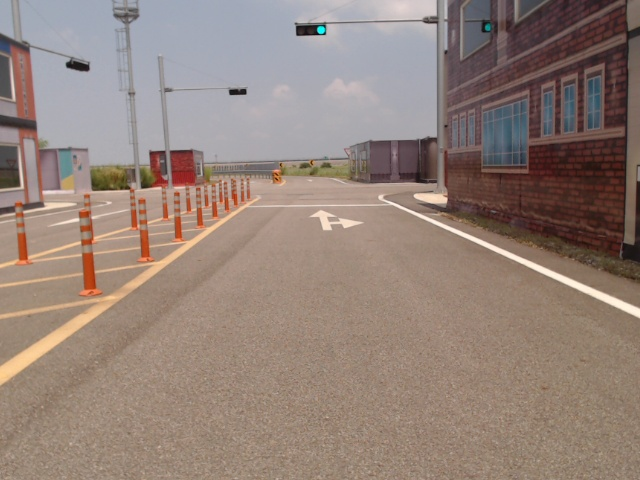green_3: (296, 25, 327, 35)
